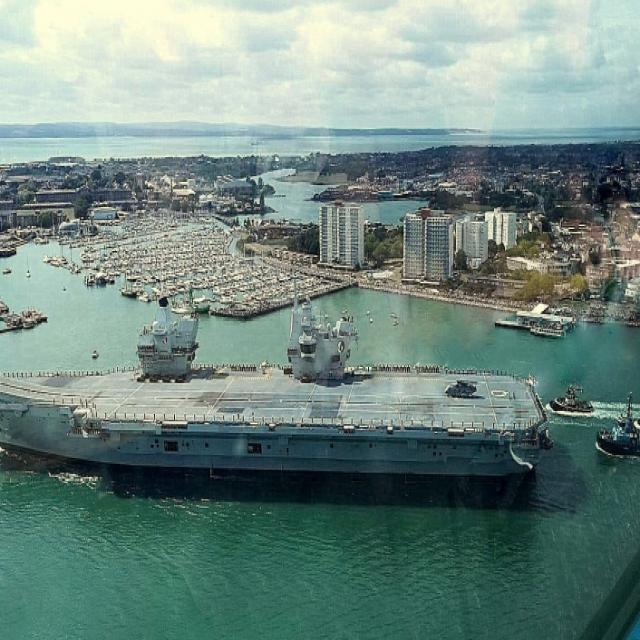Portanaves: (1, 274, 559, 500)
